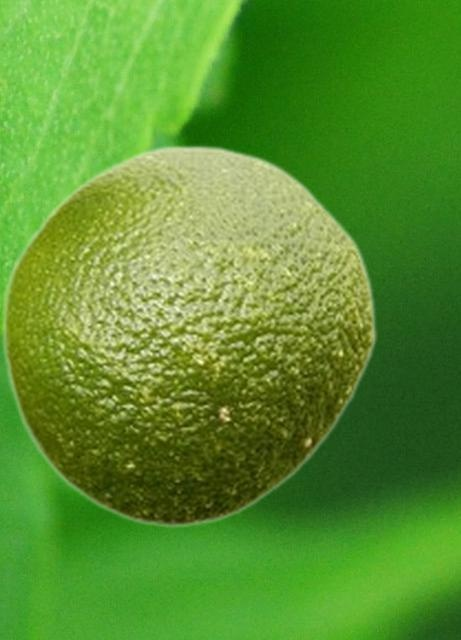calamansi: (0, 143, 376, 529)
